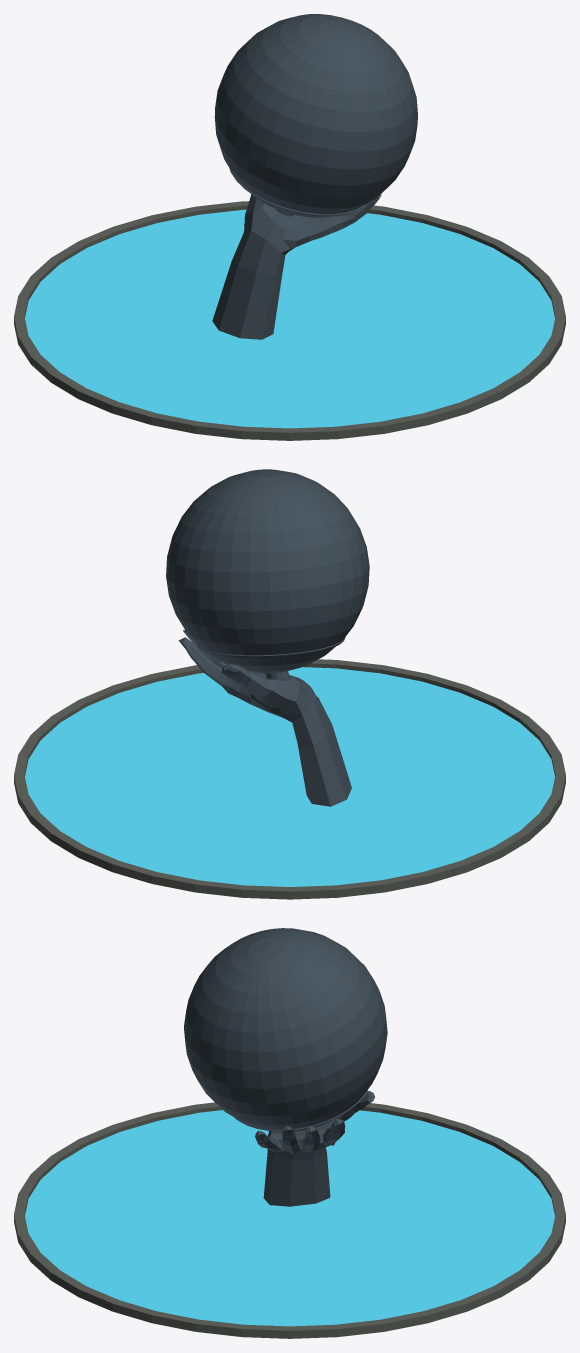
Rendered from ManoLod3.fbx.
3 renders of one model, top to bottom at view 1: azimuth 30°, elevation 25°; view 2: azimuth 150°, elevation 25°; view 3: azimuth 270°, elevation 25°, orthographic.
Parts seen in each view (by area): view 1: Cylinder.002, Sphere, Cylinder.001, Plane005.001; view 2: Cylinder.002, Sphere, Cylinder.001, Plane005.001; view 3: Cylinder.002, Sphere, Cylinder.001, Plane005.001.
Part boxes in pixels (x1,y1,x2,y2): Cylinder.002: (25,209,554,428); Sphere: (214,14,417,217); Cylinder.001: (14,201,565,440); Plane005.001: (212,194,381,339); Cylinder.002: (25,667,554,886); Sphere: (166,469,369,673); Cylinder.001: (14,659,565,899); Plane005.001: (178,630,351,806); Cylinder.002: (25,1110,554,1326); Sphere: (184,928,387,1131); Cylinder.001: (14,1102,565,1338); Plane005.001: (255,1091,374,1206).
Size of the model in its own units: 1664 by 986 by 1664.
